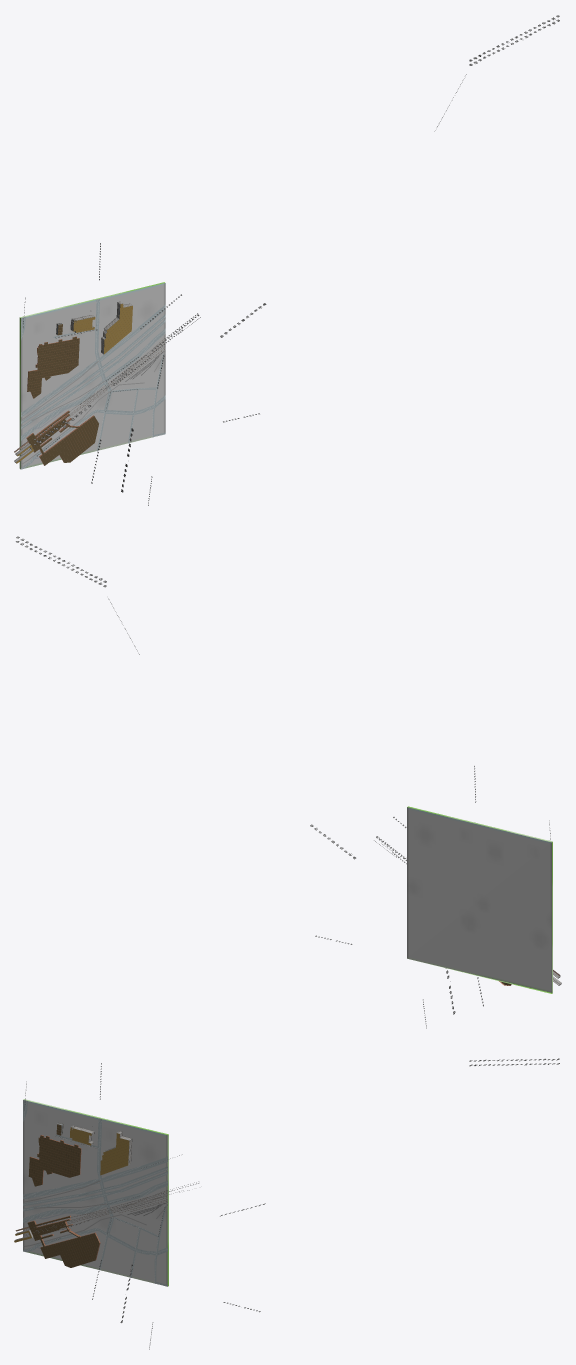
3 views of the same model, one above another, from view 1: azimuth 30°, elevation 25°; view 2: azimuth 150°, elevation 25°; view 3: azimuth 330°, elevation 25° (orthographic).
Parts seen in each view (by area): view 1: POLYGON, POLYLINE, BUILDING, FONT; view 2: POLYGON, FONT; view 3: POLYGON, POLYLINE, BUILDING, FONT.
Part boxes in pixels (bbox=[...]): POLYGON: bbox=[19, 282, 165, 469]; POLYLINE: bbox=[21, 299, 165, 469]; BUILDING: bbox=[14, 301, 132, 465]; FONT: bbox=[23, 15, 559, 505]; POLYGON: bbox=[407, 806, 552, 993]; FONT: bbox=[16, 536, 550, 1028]; POLYGON: bbox=[23, 1099, 168, 1286]; POLYLINE: bbox=[23, 1100, 167, 1286]; BUILDING: bbox=[14, 1123, 132, 1267]; FONT: bbox=[24, 1058, 559, 1349].
Size of the model in its own units: 2302 by 1578 by 29.
4 materials, 4 textured.
